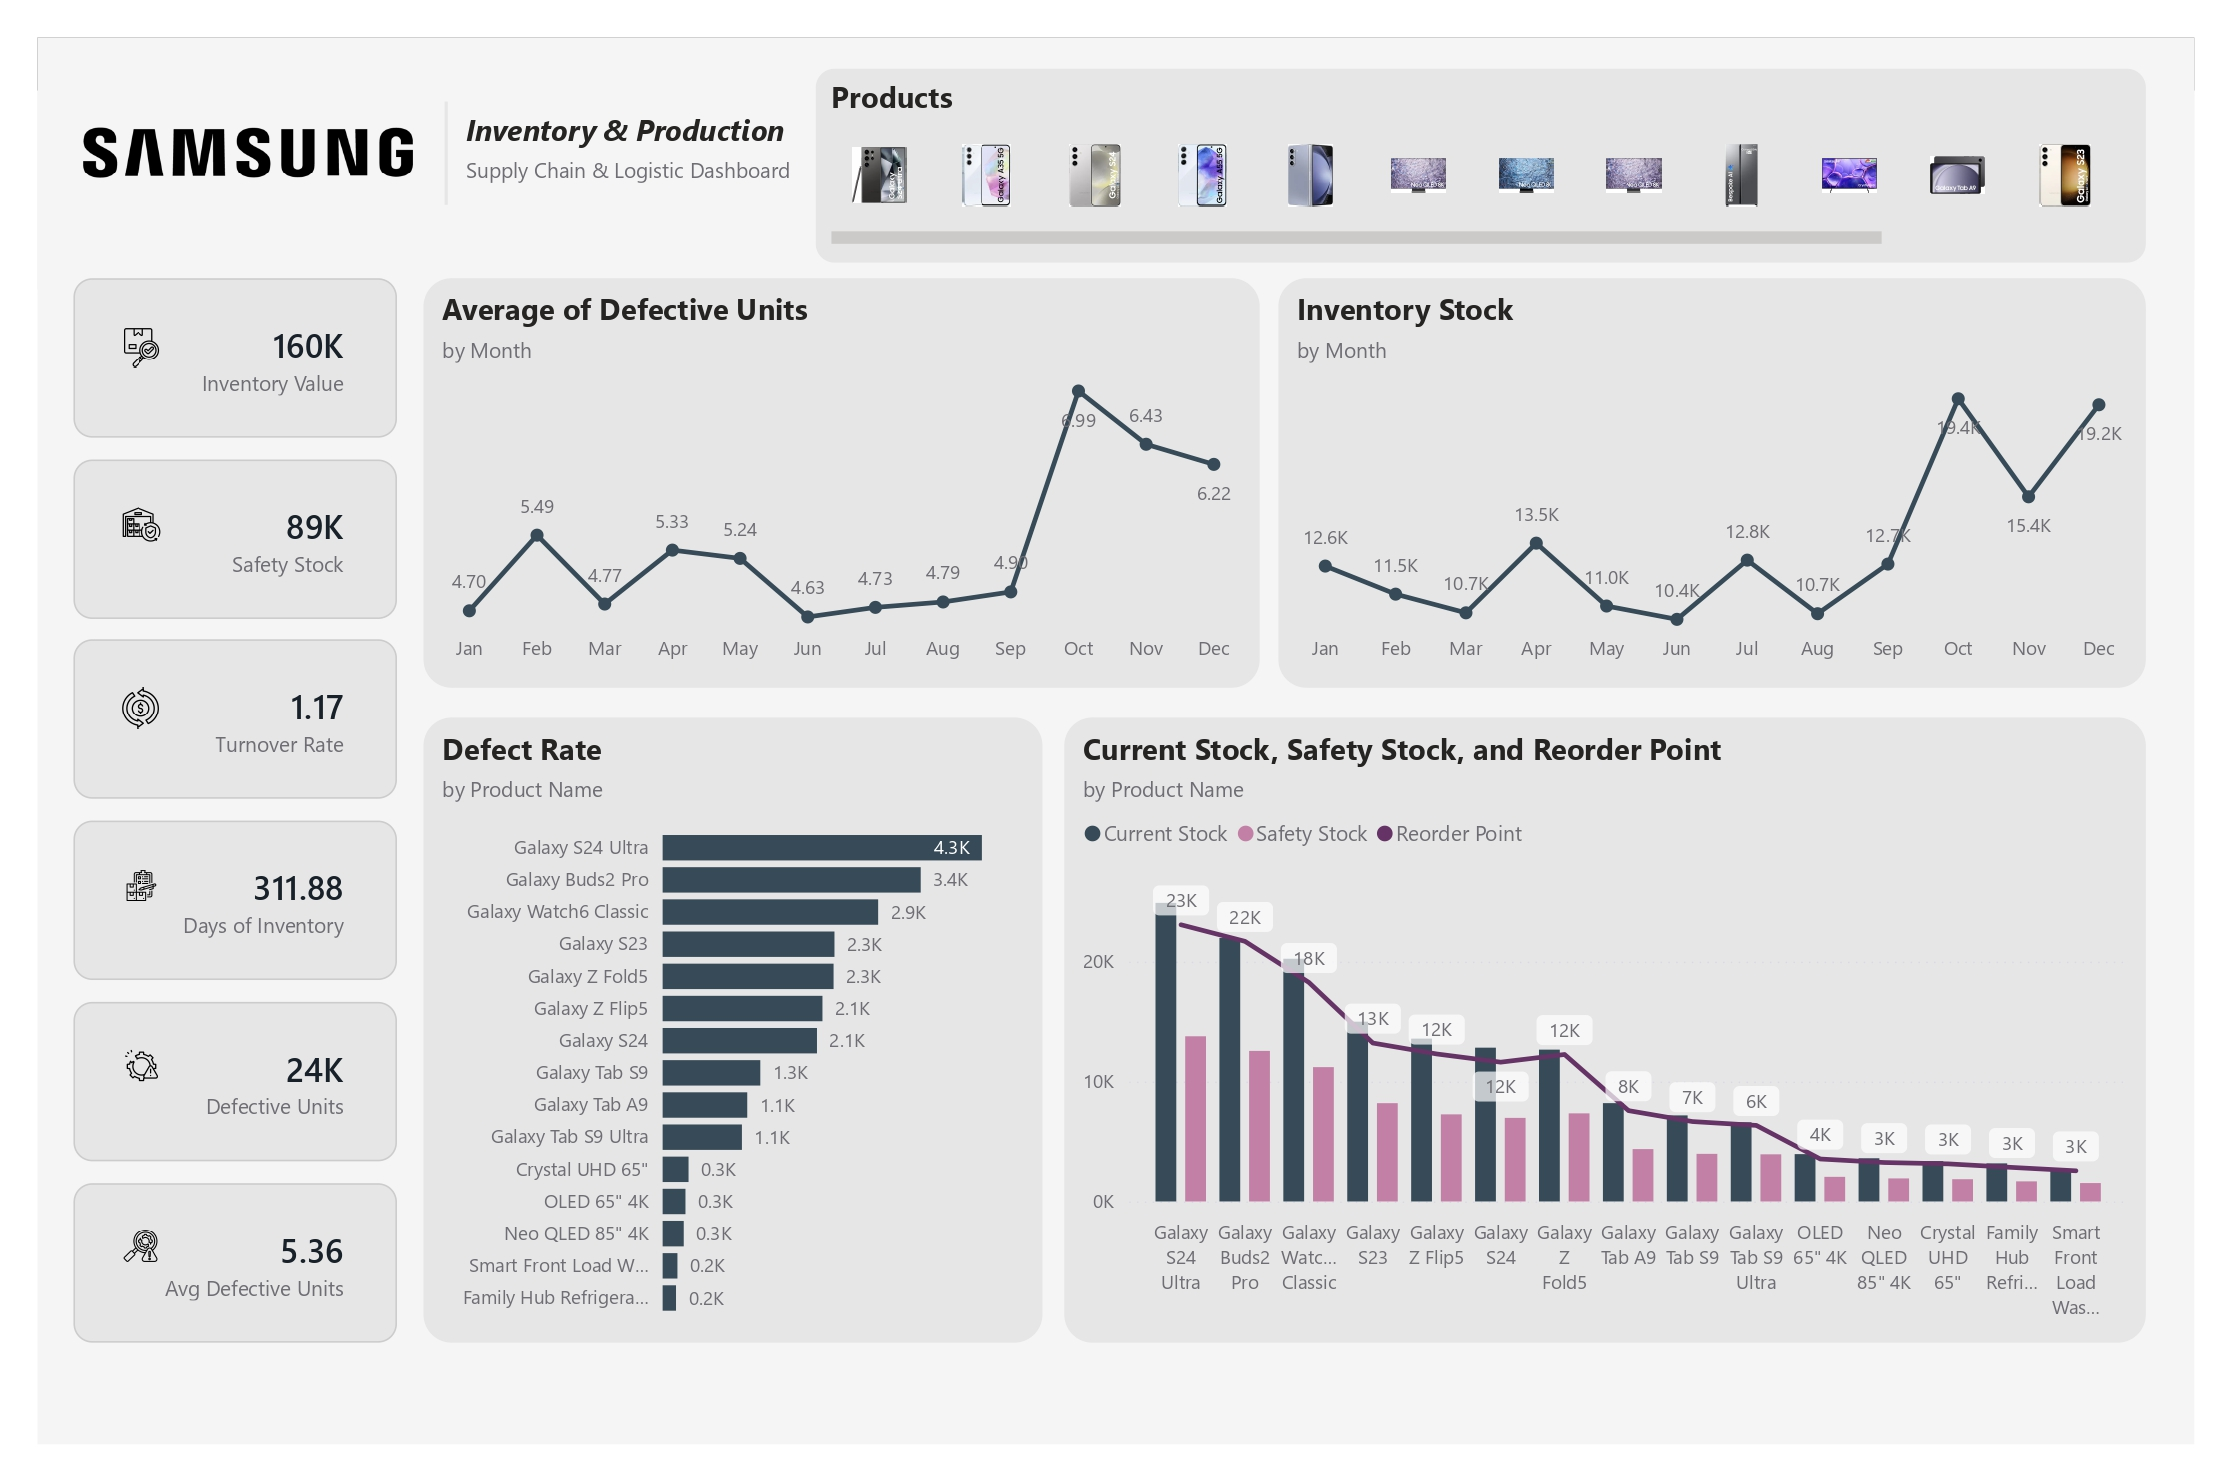

Layout of this report page (visuals, bound fields, positions):
{"tool":"powerbi","page":{"name":"Inventory","canvas":[1380,900],"ordinal":3},"visuals":[{"type":"image","box":[11.8,34.2,235.5,77.6],"z":0},{"type":"shape","box":[259.2,40.8,5.3,65.8],"z":1000},{"type":"shape","title":"Inventory & Production","box":[273.7,46.1,225,55.3],"z":2000},{"type":"cardVisual","fields":{"Data":["MeasureTable.Safety_Stock"]},"box":[23,270,207,102],"z":3000},{"type":"cardVisual","fields":{"Data":["MeasureTable.Turnover Rate"]},"box":[23,385,207,102],"z":4000},{"type":"cardVisual","fields":{"Data":["MeasureTable.Days of Inventory"]},"box":[23,501,207,102],"z":5000},{"type":"cardVisual","fields":{"Data":["Sum(fact_production.defective_units)"]},"box":[23,617,207,102],"z":6000},{"type":"cardVisual","fields":{"Data":["Avg(fact_production.defective_units)"]},"box":[23,733,207,102],"z":7000},{"type":"cardVisual","fields":{"Data":["MeasureTable.Inventory_Value"]},"box":[23,154,207,102],"z":8000},{"type":"clusteredBarChart","title":"Defect Rate","fields":{"Category":["dim_product.product_name"],"Y":["MeasureTable.Defect_Rate"]},"box":[246.8,435.4,396.2,400],"z":9000},{"type":"lineClusteredColumnComboChart","title":"Current Stock, Safety Stock, and Reorder Point ","fields":{"Category":["dim_product.product_name"],"Y":["MeasureTable.Inventory_Value","MeasureTable.Safety_Stock"],"Y2":["MeasureTable.Reorder Point"]},"box":[657,435.4,692.4,400],"z":10000},{"type":"lineChart","title":"Average of  Defective Units ","fields":{"Y":["Avg(fact_production.defective_units)"],"Category":["dim_date.Month_Short"]},"box":[246.8,154.4,535.4,262],"z":11000},{"type":"lineChart","title":"Inventory Stock","fields":{"Category":["dim_date.Month_Short"],"Y":["MeasureTable.Inventory_Value"]},"box":[793.7,154.4,555.7,262],"z":12000},{"type":"image","box":[46.8,186.1,38,25.3],"z":13000},{"type":"image","box":[46.8,298.7,38,25.3],"z":14000},{"type":"image","box":[46.8,416.5,38,25.3],"z":15000},{"type":"image","box":[46.8,531.6,38,21.5],"z":16000},{"type":"image","box":[46.8,646.8,38,21.5],"z":17000},{"type":"image","box":[46.8,762,38,21.5],"z":18000},{"type":"advancedSlicerVisual","title":"Products","fields":{"Values":["dim_product.Img"]},"box":[498.4,19.7,850.8,124.6],"z":19000}]}

Visuals, with their boxes on the page's 1380x900 design canvas (x1, y1, x2, y2). These are canvas units, not pixel positions in the 2232x1482 screenshot, which may show the page scaled, cropped or inside an application window:
image: detection(12, 34, 247, 112)
shape: detection(259, 41, 264, 107)
"Inventory & Production" shape: detection(274, 46, 499, 101)
cardVisual - MeasureTable.Safety_Stock: detection(23, 270, 230, 372)
cardVisual - MeasureTable.Turnover Rate: detection(23, 385, 230, 487)
cardVisual - MeasureTable.Days of Inventory: detection(23, 501, 230, 603)
cardVisual - Sum(fact_production.defective_units): detection(23, 617, 230, 719)
cardVisual - Avg(fact_production.defective_units): detection(23, 733, 230, 835)
cardVisual - MeasureTable.Inventory_Value: detection(23, 154, 230, 256)
"Defect Rate" clusteredBarChart: detection(247, 435, 643, 835)
"Current Stock, Safety Stock, and Reorder Point " lineClusteredColumnComboChart: detection(657, 435, 1349, 835)
"Average of  Defective Units " lineChart: detection(247, 154, 782, 416)
"Inventory Stock" lineChart: detection(794, 154, 1349, 416)
image: detection(47, 186, 85, 211)
image: detection(47, 299, 85, 324)
image: detection(47, 416, 85, 442)
image: detection(47, 532, 85, 553)
image: detection(47, 647, 85, 668)
image: detection(47, 762, 85, 784)
"Products" advancedSlicerVisual: detection(498, 20, 1349, 144)
